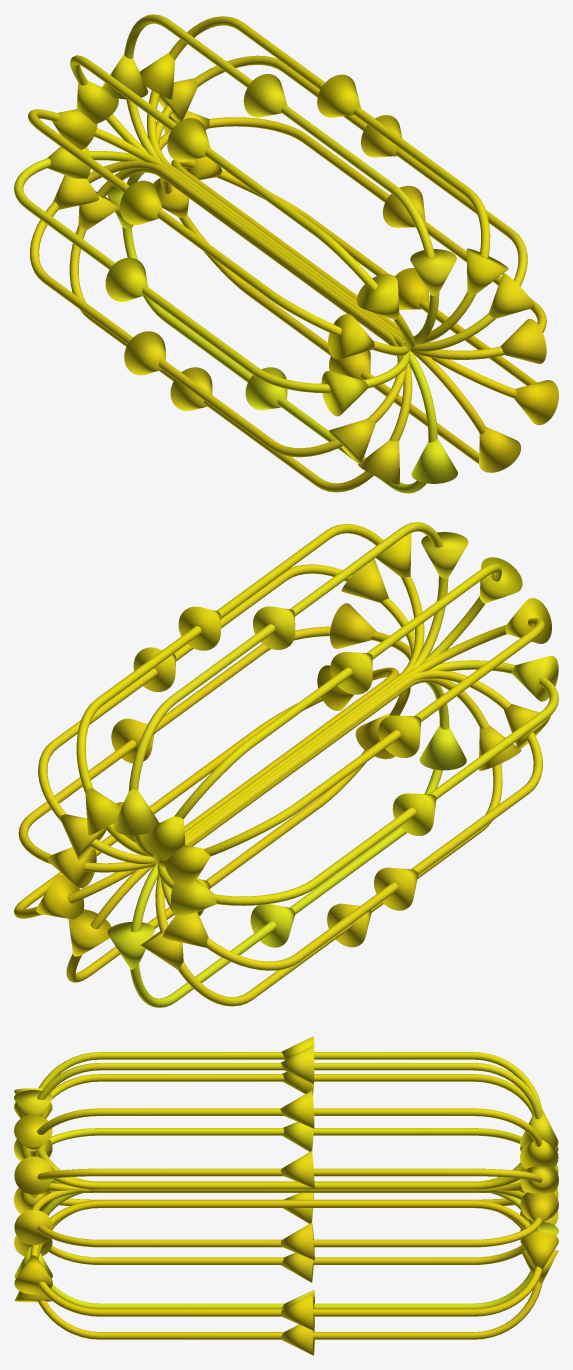
File: magneticFieldLinesForGltf.glb
3 renders of one model, top to bottom at view 1: azimuth 30°, elevation 25°; view 2: azimuth 150°, elevation 25°; view 3: azimuth 270°, elevation 25°, orthographic. The views are drawn at different scales.
Visible parts, largest first — view 1: Cone.009, Cone.005, Cone.008, Cone.004, Cone.007, Cone.006, Cone.010, Cone.011, Cone.003, Cone.012, Cone.001, Cone.002; view 2: Cone.009, Cone.005, Cone.008, Cone.004, Cone.007, Cone.006, Cone.002, Cone.001, Cone.003, Cone.010, Cone.011, Cone.012; view 3: Cone.011, Cone.005, Cone.003, Cone.001, Cone.004, Cone.012, Cone.007, Cone.008, Cone.010, Cone.006, Cone.002, Cone.009.
Part boxes in pixels (<box>): Cone.009: <box>30,160,406,464</box>; Cone.005: <box>139,16,508,344</box>; Cone.008: <box>28,109,408,359</box>; Cone.004: <box>102,14,456,345</box>; Cone.007: <box>14,146,410,416</box>; Cone.006: <box>70,55,414,350</box>; Cone.010: <box>69,168,412,492</box>; Cone.011: <box>171,156,558,425</box>; Cone.003: <box>156,55,535,351</box>; Cone.012: <box>153,177,521,472</box>; Cone.001: <box>159,110,546,363</box>; Cone.002: <box>107,172,457,493</box>; Cone.009: <box>160,669,550,970</box>; Cone.005: <box>76,524,424,856</box>; Cone.008: <box>159,598,551,887</box>; Cone.004: <box>112,522,468,857</box>; Cone.007: <box>157,655,558,915</box>; Cone.006: <box>142,557,522,862</box>; Cone.002: <box>107,682,466,1007</box>; Cone.001: <box>18,603,411,888</box>; Cone.003: <box>38,558,414,863</box>; Cone.010: <box>140,678,521,1006</box>; Cone.011: <box>14,665,399,919</box>; Cone.012: <box>66,687,410,982</box>; Cone.011: <box>14,1200,558,1330</box>; Cone.005: <box>14,1090,558,1189</box>; Cone.003: <box>14,1151,558,1194</box>; Cone.001: <box>14,1190,558,1260</box>; Cone.004: <box>14,1046,558,1181</box>; Cone.012: <box>14,1199,558,1355</box>; Cone.007: <box>14,1122,558,1192</box>; Cone.008: <box>14,1072,558,1182</box>; Cone.010: <box>14,1200,558,1282</box>; Cone.006: <box>14,1036,557,1169</box>; Cone.002: <box>14,1192,558,1308</box>; Cone.009: <box>14,1181,558,1223</box>.
Bounding box in the file's own units: 5.6 × 5.59 × 9.94.
